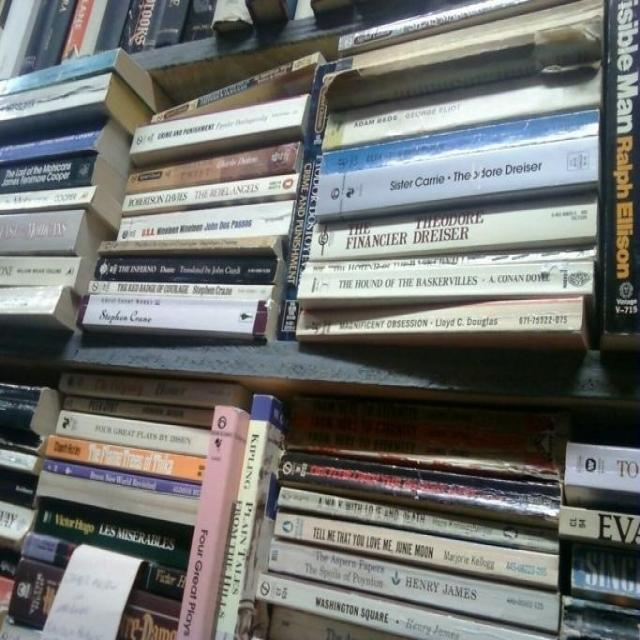book: (319, 76, 597, 157), (270, 512, 552, 588), (306, 198, 594, 264), (298, 294, 586, 348), (600, 4, 640, 345), (28, 495, 194, 571), (45, 408, 226, 464), (78, 294, 276, 344), (111, 200, 298, 246), (58, 368, 250, 408), (89, 252, 282, 287), (1, 151, 106, 201)
